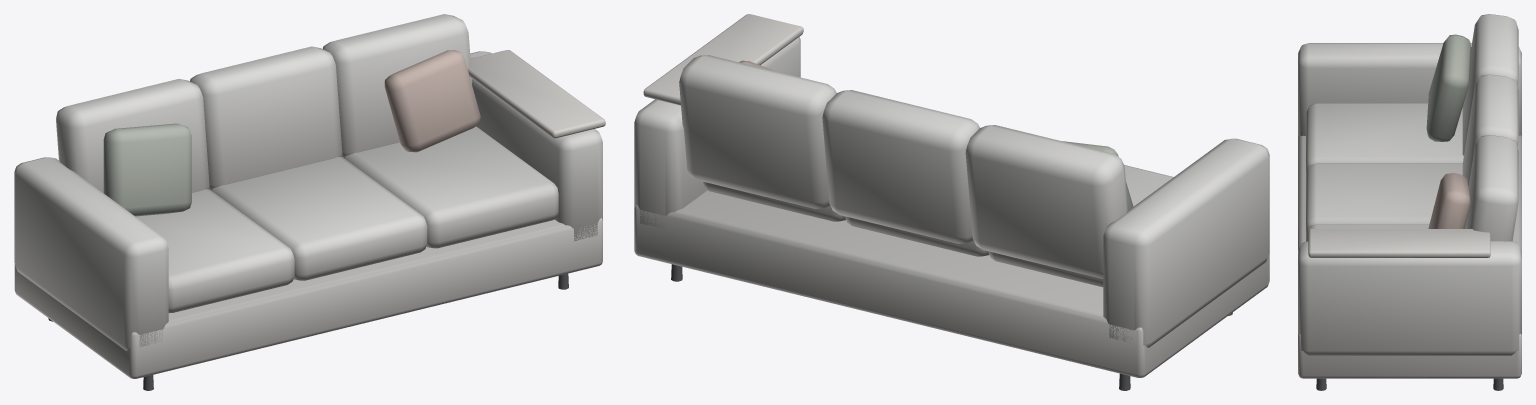
The model's file is white_sofa.glb.
3 views of the same model, side by side, from view 1: azimuth 30°, elevation 25°; view 2: azimuth 150°, elevation 25°; view 3: azimuth 270°, elevation 25° (orthographic). The views are drawn at different scales.
Parts seen in each view (by area): view 1: white_sofa; view 2: white_sofa; view 3: white_sofa.
Part boxes in pixels (x1,y1,x2,y2): white_sofa: (14,14,605,390); white_sofa: (634,14,1269,390); white_sofa: (1298,14,1521,390).
Size of the model in its own units: 2 by 0.8226 by 0.86.
